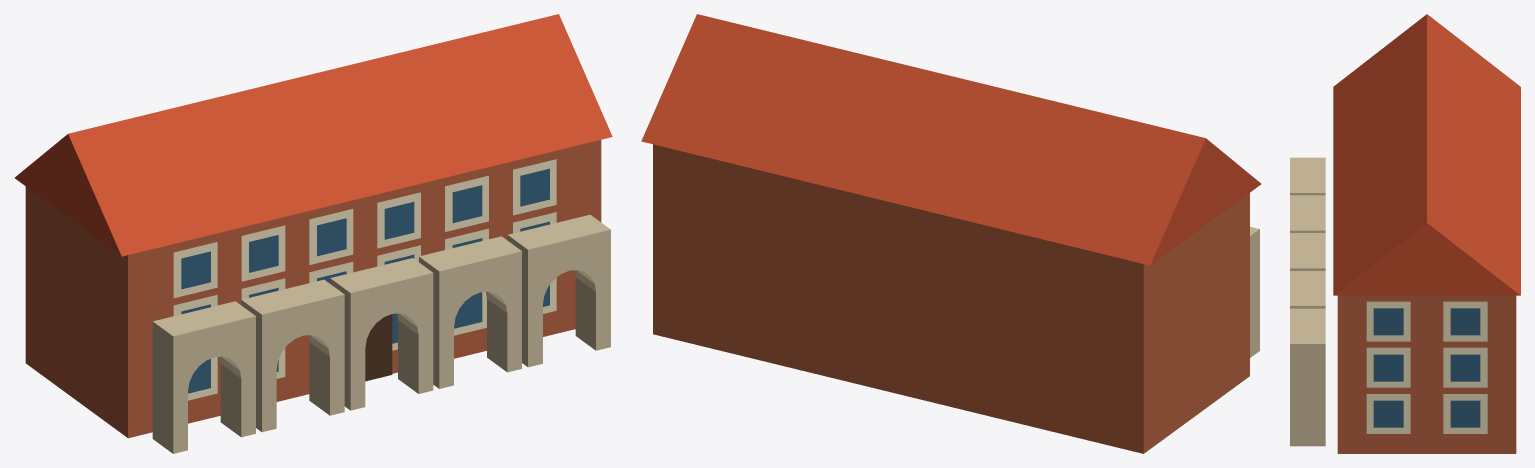
File: building_sukiennice.fbx
3 views of the same model, side by side, from view 1: azimuth 30°, elevation 25°; view 2: azimuth 150°, elevation 25°; view 3: azimuth 270°, elevation 25° (orthographic). The views are drawn at different scales.
Visible parts, largest first — view 1: building_sukiennice; view 2: building_sukiennice; view 3: building_sukiennice.
Boxes of the visible parts, x1,y1,x2,y2 form: building_sukiennice: (14, 14, 612, 453); building_sukiennice: (641, 14, 1261, 453); building_sukiennice: (1290, 14, 1520, 453).
Bounding box in the file's own units: 83 × 43.5 × 38.75.
